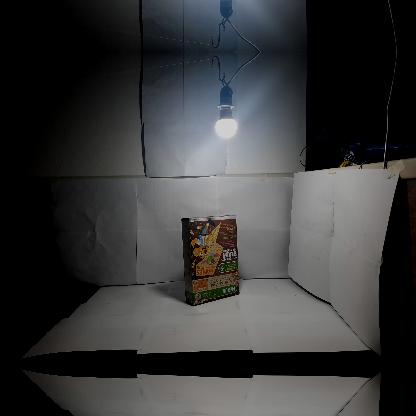Koko-Krunch: (181, 214, 239, 306)
